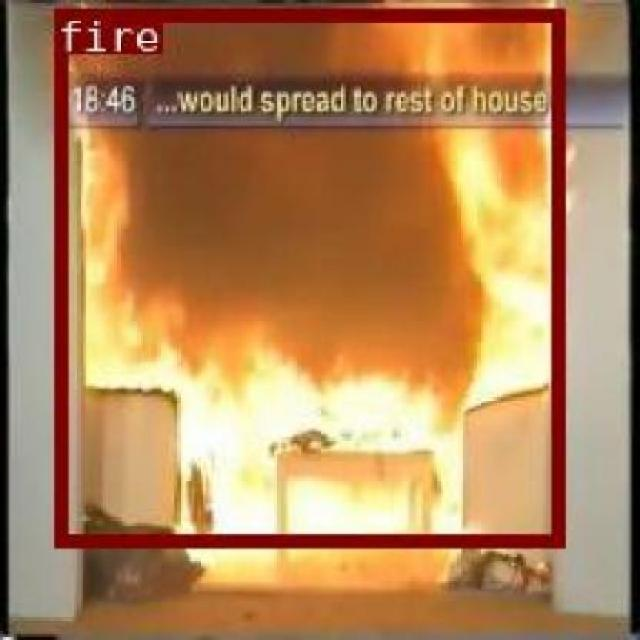fire: (54, 6, 562, 545)
